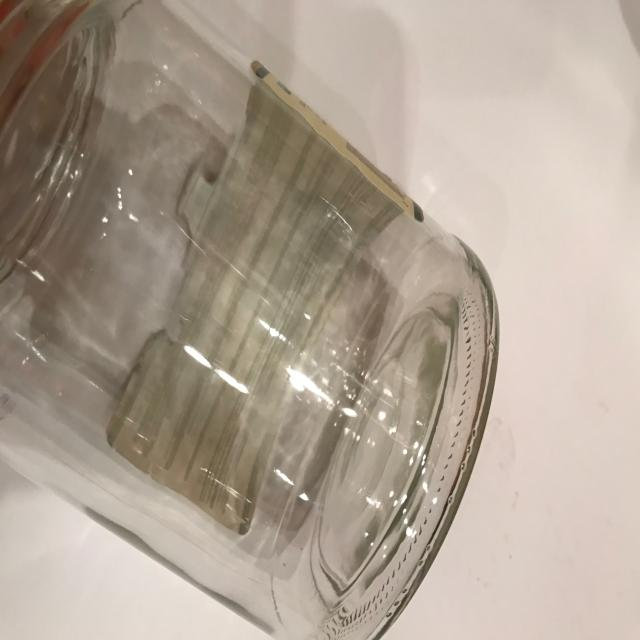glass: (1, 0, 500, 639)
